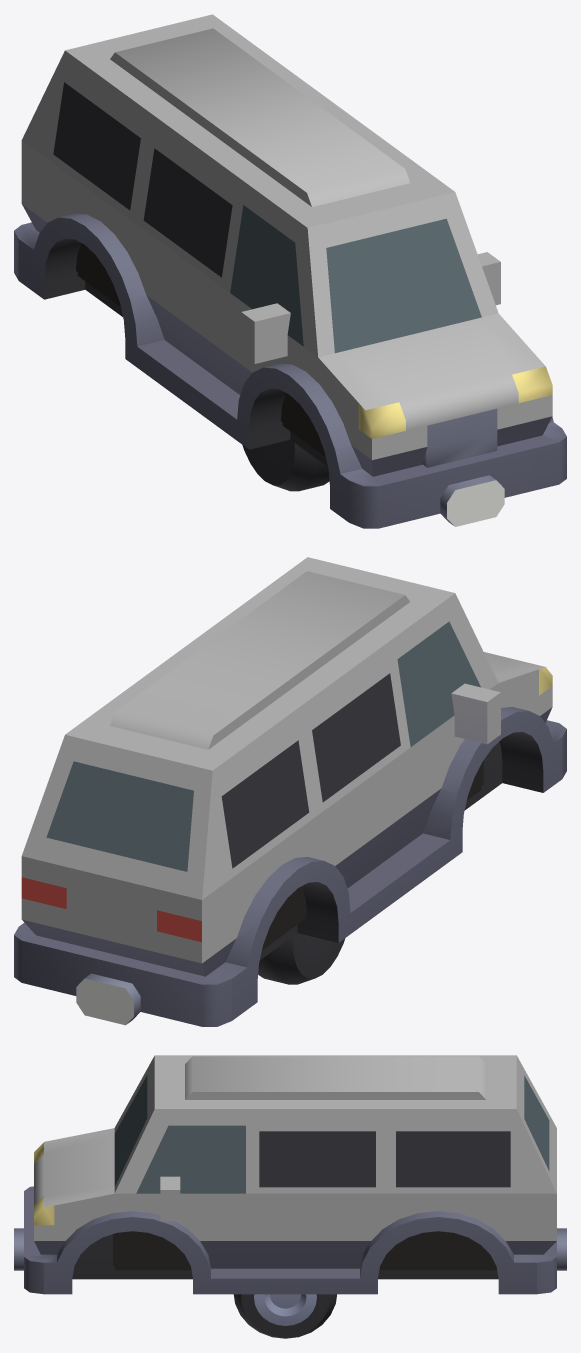
The model's file is ojota-minibus-v1.glb.
The picture shows the model from 3 angles, top to bottom: view 1: azimuth 30°, elevation 25°; view 2: azimuth 150°, elevation 25°; view 3: azimuth 270°, elevation 25°; orthographic projection. The views are drawn at different scales.
Visible parts, largest first — view 1: paint, trim, glass, wheel, interior, headlamp, plate; view 2: paint, trim, glass, wheel, plate, taillamp, interior; view 3: paint, trim, glass, interior, wheel, headlamp.
Part boxes in pixels (<box>): paint: <box>21,14,552,460</box>; trim: <box>14,82,566,528</box>; glass: <box>230,205,481,353</box>; wheel: <box>242,440,329,491</box>; interior: <box>76,243,325,456</box>; headlamp: <box>358,366,552,438</box>; plate: <box>447,480,504,526</box>; paint: <box>21,557,552,963</box>; trim: <box>14,673,566,1026</box>; glass: <box>46,621,480,871</box>; wheel: <box>258,933,345,984</box>; plate: <box>76,978,133,1025</box>; taillamp: <box>21,877,201,942</box>; interior: <box>262,760,483,950</box>; paint: <box>34,1055,556,1240</box>; trim: <box>14,1131,566,1294</box>; glass: <box>114,1075,549,1193</box>; interior: <box>113,1231,496,1270</box>; wheel: <box>233,1294,336,1338</box>; headlamp: <box>34,1142,54,1225</box>.
Bounding box in the file's own units: 1.95 × 2.64 × 5.09.
8 materials, 2 textured.
